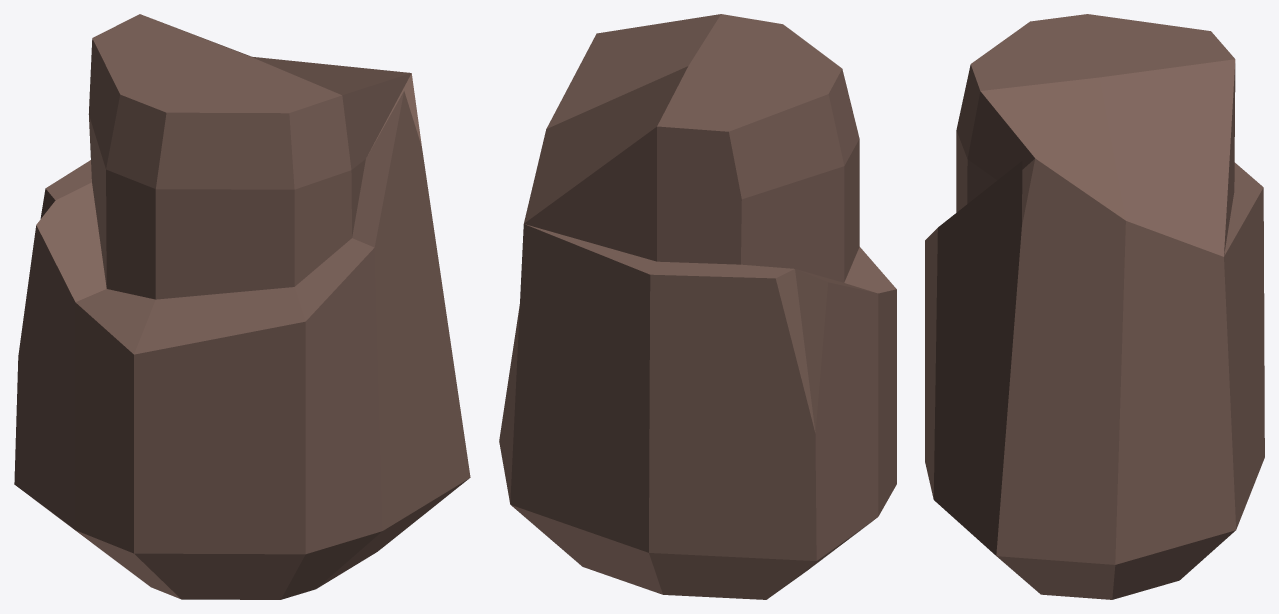
Rendered from stone_2.fbx.
3 views of the same model, side by side, from view 1: azimuth 30°, elevation 25°; view 2: azimuth 150°, elevation 25°; view 3: azimuth 270°, elevation 25° (orthographic). The views are drawn at different scales.
Visible parts, largest first — view 1: Cube.004; view 2: Cube.004; view 3: Cube.004.
Part boxes in pixels (bbox=[...]): Cube.004: bbox=[14, 14, 470, 599]; Cube.004: bbox=[499, 14, 896, 599]; Cube.004: bbox=[925, 14, 1264, 599].
Size of the model in its own units: 2110 by 2709 by 1766.
